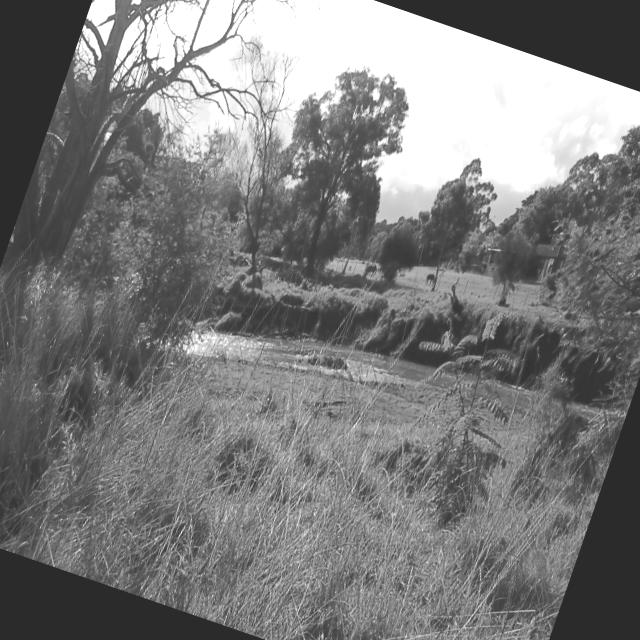Mysore-Thorn-Weed: (368, 286, 544, 516)
